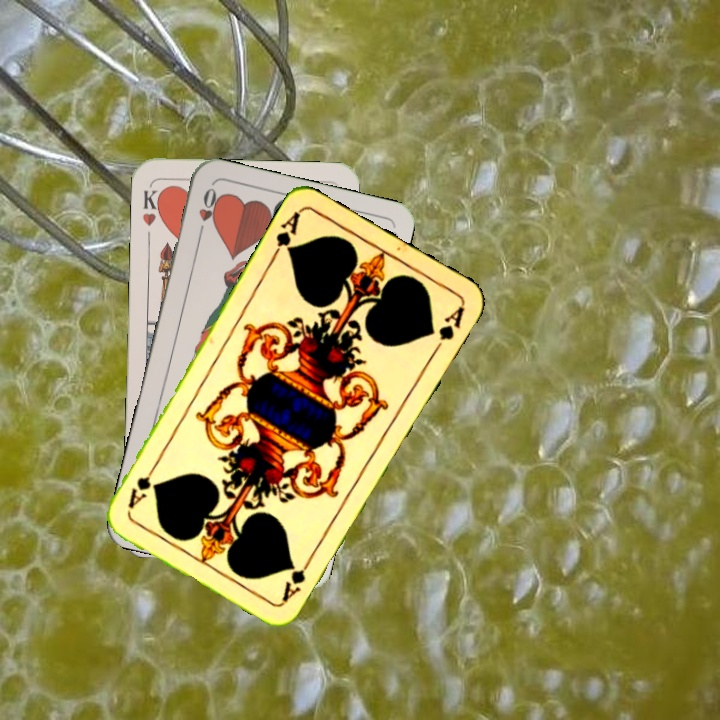GA: (278, 551, 316, 605), (267, 206, 303, 262)
HK: (138, 185, 165, 228)
HO: (194, 183, 222, 241)
